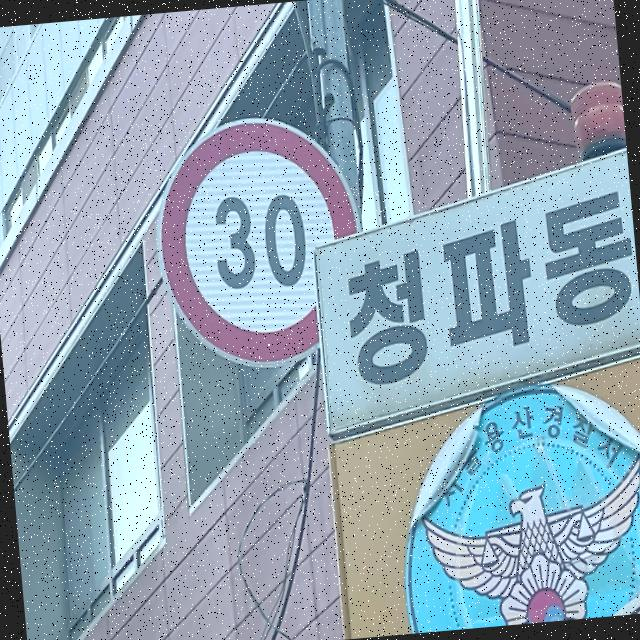Ograniczenie predkosci do 30: (151, 112, 352, 369)
